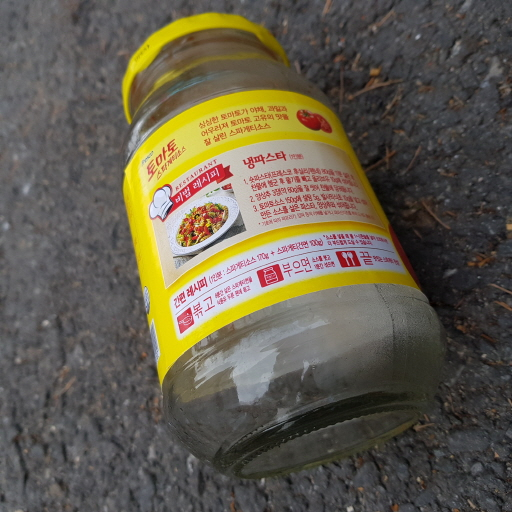Glass_5: (117, 13, 449, 475)
